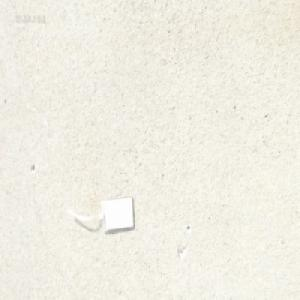LuggageTag: (67, 194, 136, 234)
